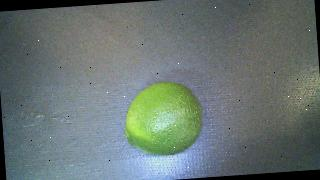EXPORTACION: (120, 79, 204, 158)
